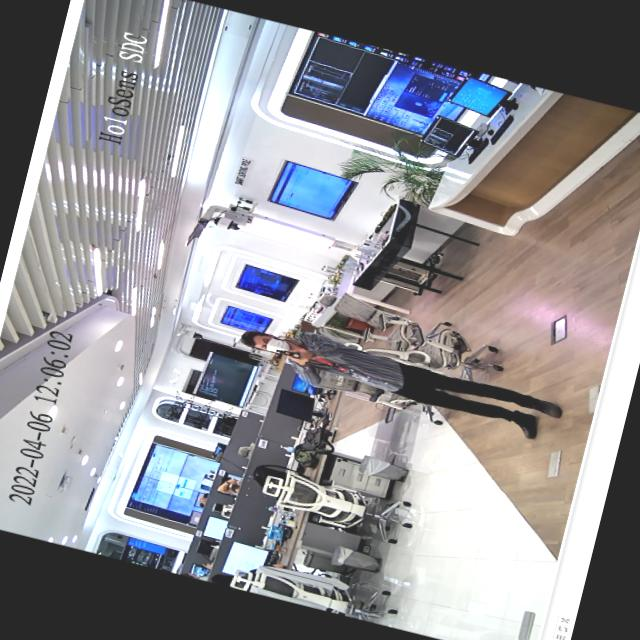long weapon: (267, 340, 319, 366)
